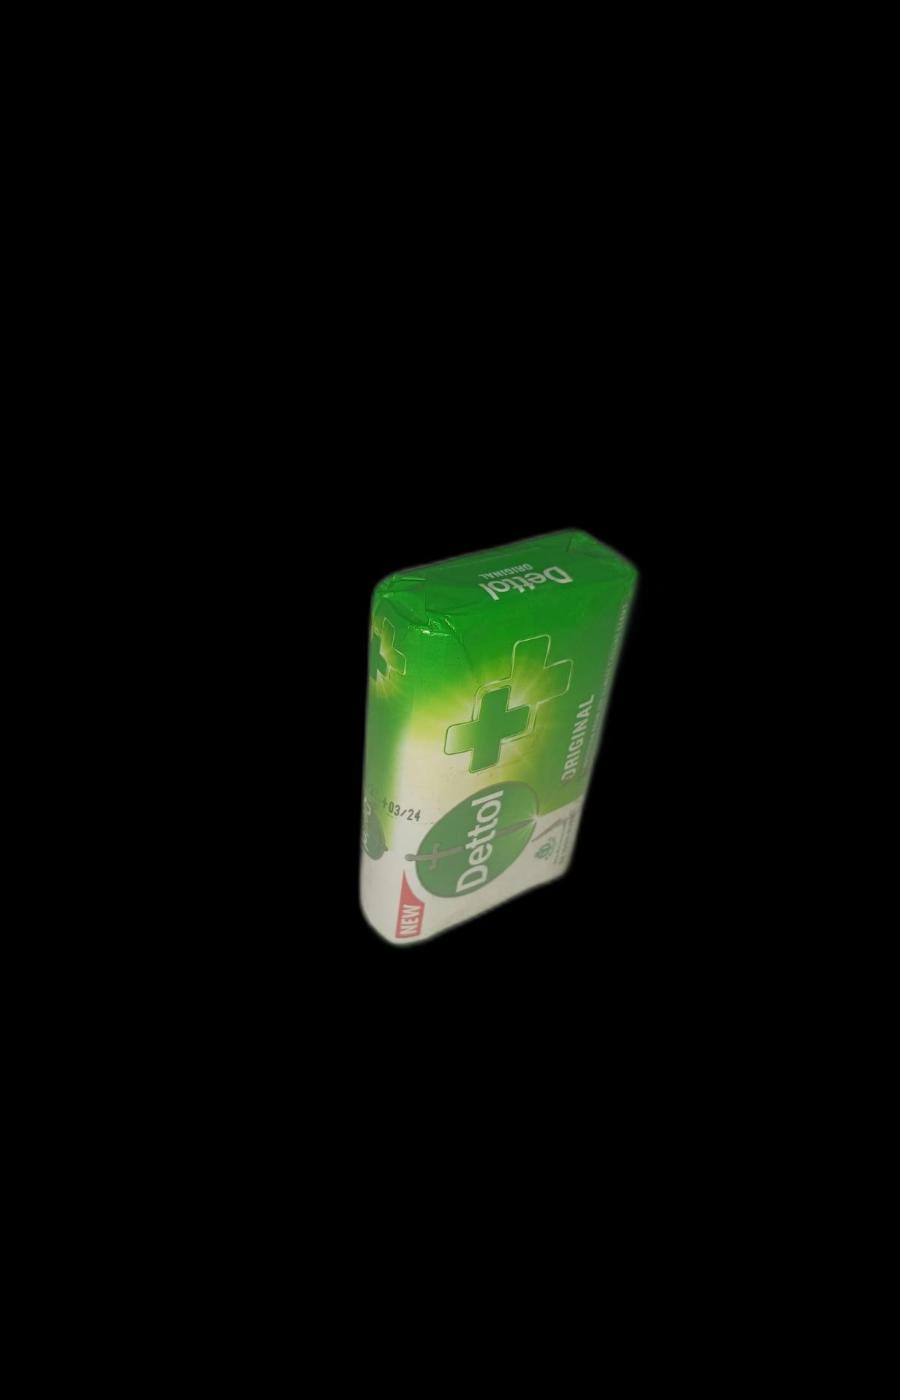Dettol Bathing Soap Bar - Original 125g: (357, 545, 635, 941)
